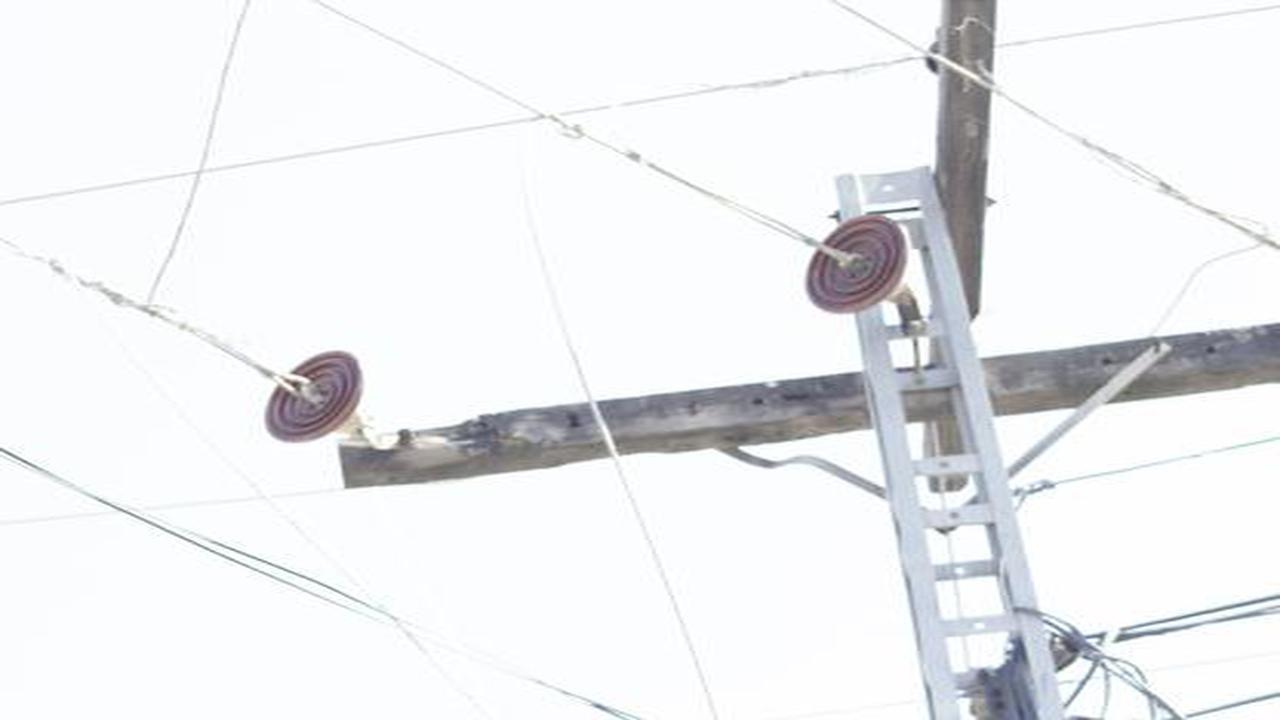insulator_disc: (803, 214, 909, 315), (263, 346, 362, 441)
